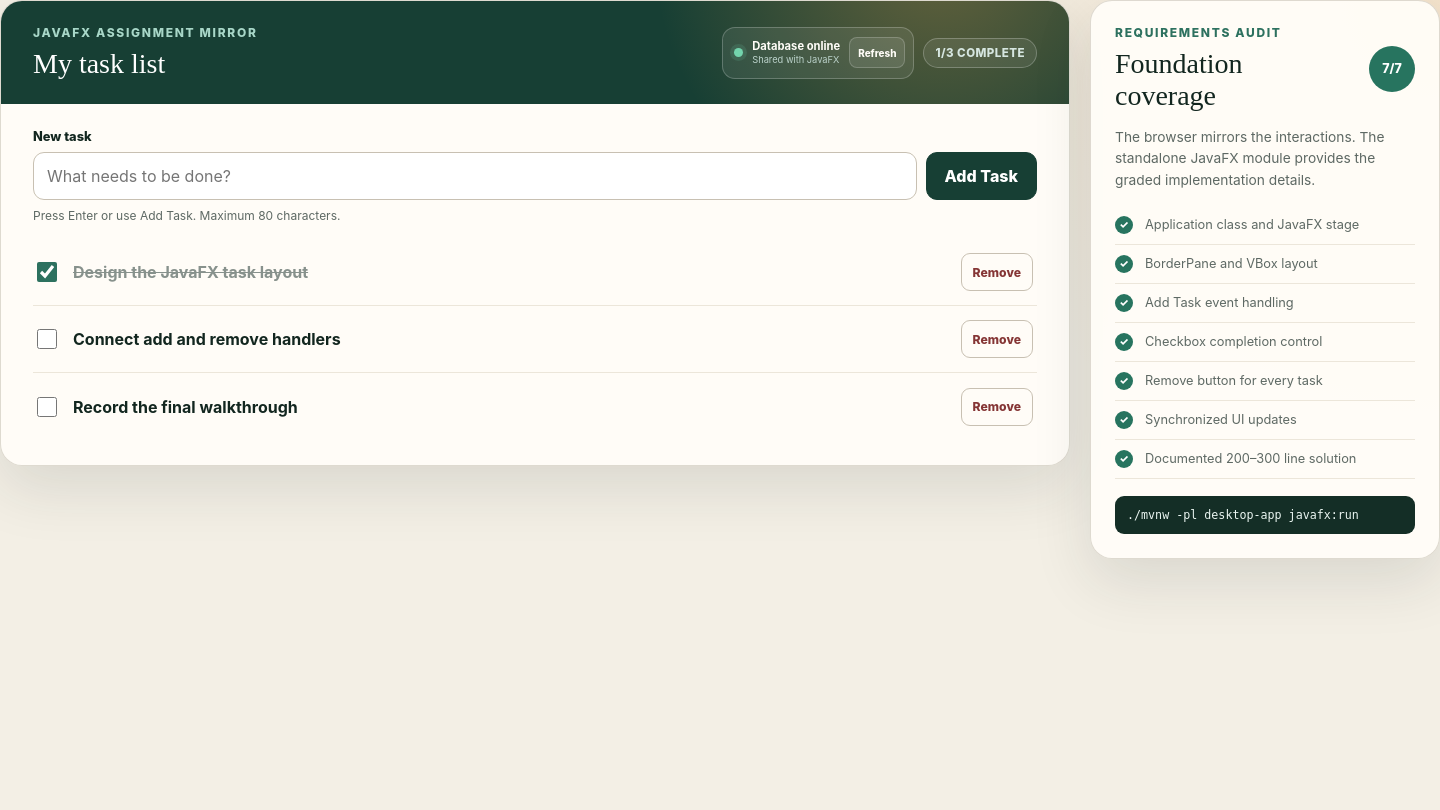
Test: FoundationTaskLab › marks tasks completed and removes them
Check: the text "Connect add and remove handlers" is shown, box [73, 329, 341, 349]
Click the checkbox named "Mark \"Connect add and remove handlers\" as completed" at (47, 339), box [37, 329, 57, 349]
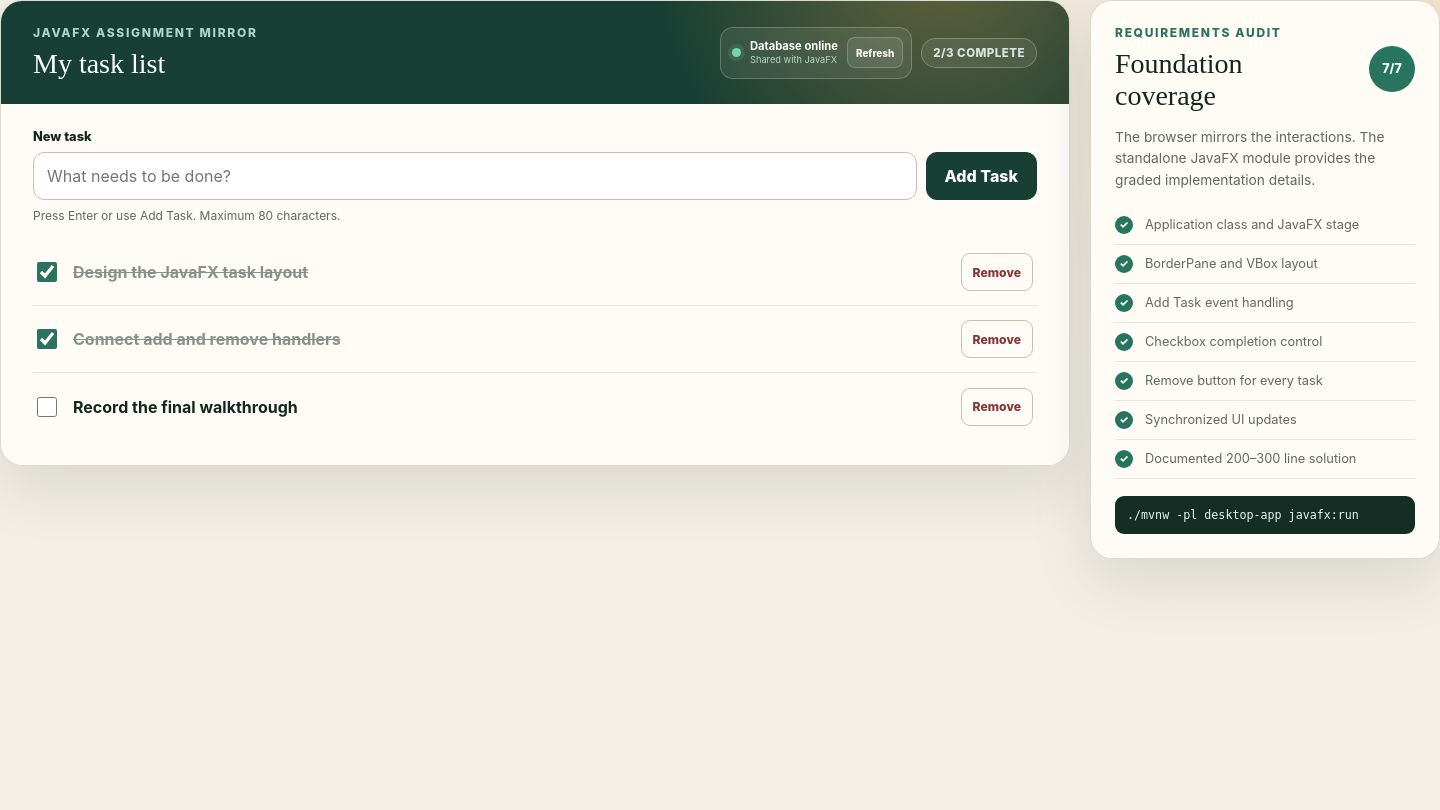
Check: the text "2/3 complete" is shown, box [921, 38, 1037, 68]
Click the button named "Remove \"Connect add and remove handlers\"" at (997, 339), box [961, 320, 1033, 358]
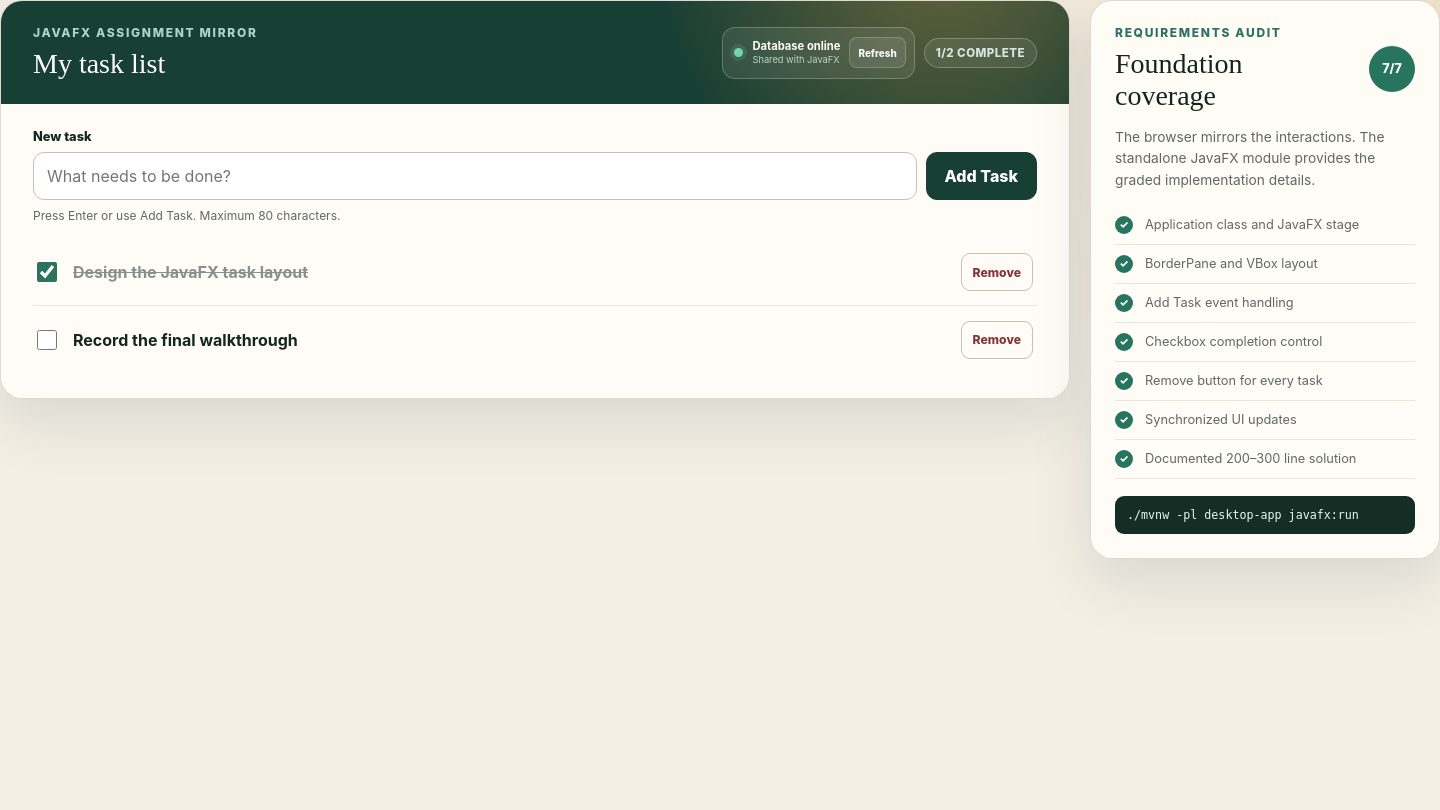
Check: the text "Connect add and remove handlers" is gone
Check: the text "1/2 complete" is shown, box [924, 38, 1037, 68]
